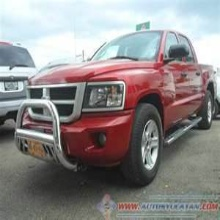no damage: (13, 29, 217, 187), (1, 40, 37, 128)
